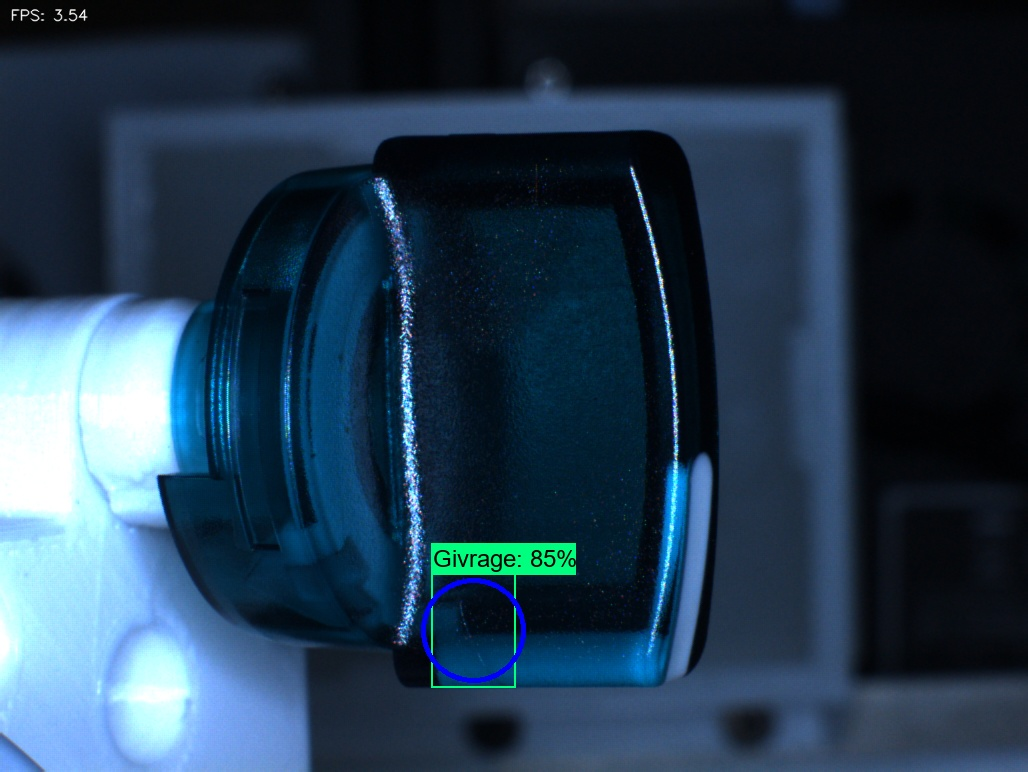PointNoir: (306, 315, 378, 391), (283, 415, 348, 486)
